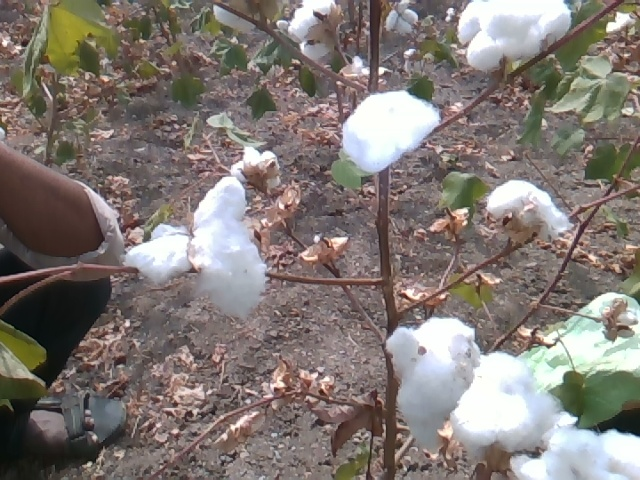cotton: (443, 350, 638, 479), (122, 175, 268, 318), (380, 318, 487, 458), (332, 88, 448, 168), (455, 1, 575, 78), (484, 170, 574, 248), (286, 1, 352, 60), (228, 142, 282, 201), (605, 2, 635, 42)
